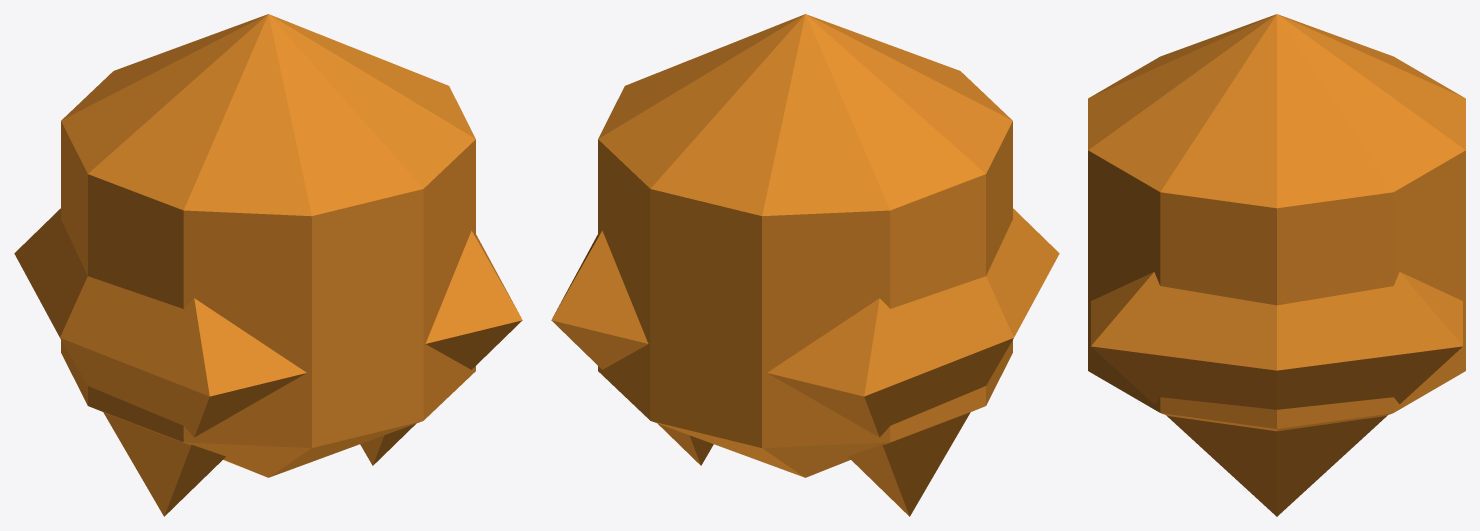
The model's file is crop_pumpkin.glb.
3 renders of one model, left to right at view 1: azimuth 30°, elevation 25°; view 2: azimuth 150°, elevation 25°; view 3: azimuth 270°, elevation 25°, orthographic. The views are drawn at different scales.
Parts seen in each view (by area): view 1: crop_pumpkin; view 2: crop_pumpkin; view 3: crop_pumpkin.
Part boxes in pixels (x1,y1,x2,y2): crop_pumpkin: (14,14,522,516); crop_pumpkin: (551,14,1059,516); crop_pumpkin: (1088,14,1465,516).
Size of the model in its own units: 0.9143 by 1 by 0.753.
